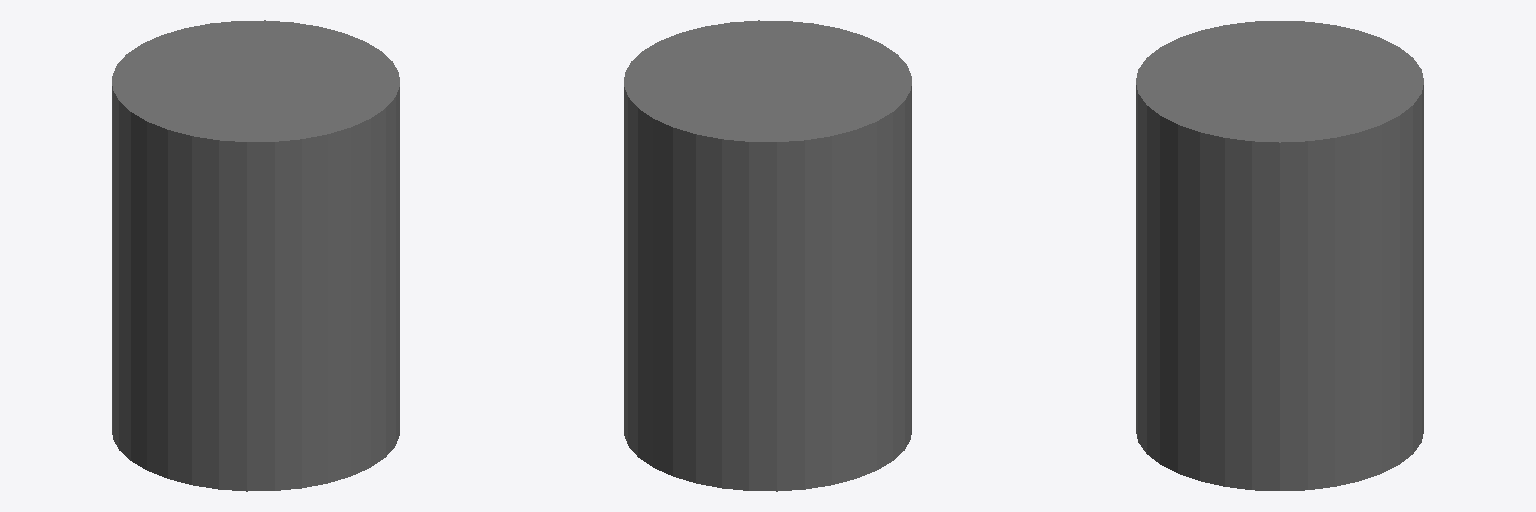
The robot description file, URDF, robot "obstacle_4":
<?xml version="1.0"?>
<robot name="obstacle_4">

<link name="box_4">
  <inertial>
      <origin xyz="0 0 0" rpy="0 0 0"/>
      <mass value="1.0" />
      <inertia ixx="0.0741666666667" ixy="0.0" ixz="0.0" iyy="0.0585416666667" iyz="0.0" izz="0.0260416666667"/>
  </inertial>
  <collision>
    <origin xyz="0 0 0" rpy="0 0 0"/>
    <geometry>
        <cylinder radius="0.3" length="0.8"/>
    </geometry>
  </collision>
  <visual>
    <origin rpy="0 0 0" xyz="0 0 0"/>
    <geometry>
        <cylinder radius="0.3" length="0.8"/>
    </geometry>
    <material name="Cyan">
       <color rgba="0.5 0.5 0.5 1.0"/>         
       </material>
  </visual>
  </link>
  
  <link name="box_4_base_footprint">
  </link>

  <joint name="box_4_base_link_joint" type="fixed">
    <origin xyz="0.0 0 0.1" rpy="0 0 0" />
    <parent link="box_4_base_footprint"/>
    <child link="box_4" />
  </joint>

  <gazebo>
      <plugin name="object_controller" filename="libgazebo_ros_planar_move.so">
        <commandTopic>obs_4/cmd_vel</commandTopic>
        <odometryTopic>obs_4/odom</odometryTopic>
        <odometryFrame>obs_4/odom</odometryFrame>
        <odometryRate>100.0</odometryRate>
        <robotBaseFrame>box_4_base_footprint</robotBaseFrame>
      </plugin>
    </gazebo>
  
  <!-- <gazebo>
    <plugin name="JointStatePublisher" filename="libJointStatePublisher.so">
    <joints>box_1_base_link_joint</joints>
    <publish_selected_only>1</publish_selected_only>
</plugin>
  </gazebo> -->

    <gazebo reference="box_4">
      <turnGravityOff> true </turnGravityOff>
      <kp>100000.0</kp>
      <kd>100000.0</kd>
      <mu1>0.1</mu1>
      <mu2>0.1</mu2>
      <fdir1>1 0 0</fdir1>
    </gazebo>
</robot>

--- Render facts (derived) ---
Views: 3 orthographic renders of the robot side by side, from view 1: azimuth 30°, elevation 25°; view 2: azimuth 150°, elevation 25°; view 3: azimuth 270°, elevation 25°.
Robot: obstacle_4 — 2 links, 1 joints (1 fixed); root link box_4_base_footprint; default pose: all joints at 0.
Links seen in each view (by area): view 1: box_4; view 2: box_4; view 3: box_4.
Boxes of the visible links, <box> form: box_4: <box>112,20,399,491</box>; box_4: <box>624,20,911,491</box>; box_4: <box>1136,21,1423,490</box>.
Size in the robot's own frame: 0.6 by 0.6 by 0.8 metres.
Geometry: primitives only (box / cylinder / sphere), no mesh files.